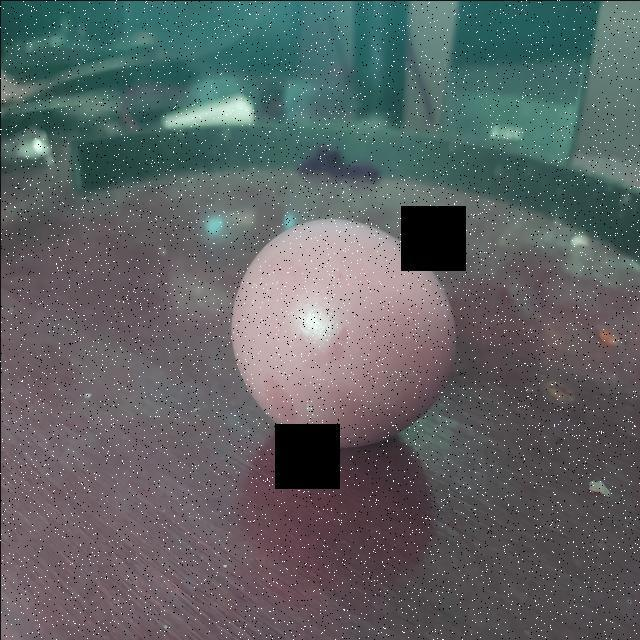egg: (228, 214, 462, 448)
